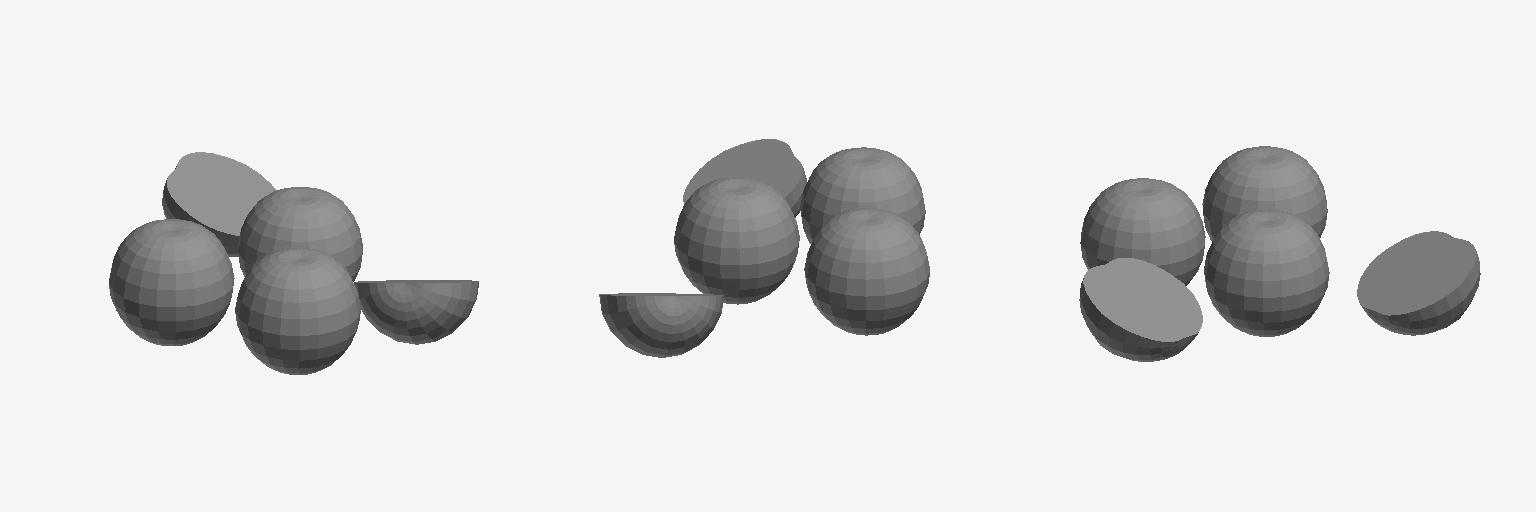
File: all_watermelon.obj
The picture shows the model from 3 angles: view 1: azimuth 30°, elevation 25°; view 2: azimuth 150°, elevation 25°; view 3: azimuth 270°, elevation 25°; orthographic projection.
Parts seen in each view (by area): view 1: Model_044_Watermelon_01, Model_044_Watermelon_04, Model_044_Watermelon_00, Model_044_Watermelon_03, Model_044_Watermelon_02; view 2: Model_044_Watermelon_01, Model_044_Watermelon_00, Model_044_Watermelon_04, Model_044_Watermelon_03, Model_044_Watermelon_02; view 3: Model_044_Watermelon_00, Model_044_Watermelon_03, Model_044_Watermelon_02, Model_044_Watermelon_04, Model_044_Watermelon_01.
Boxes of the visible parts, x1=… form: Model_044_Watermelon_01: x1=109, y1=219, x2=234, y2=345; Model_044_Watermelon_04: x1=235, y1=248, x2=360, y2=374; Model_044_Watermelon_00: x1=238, y1=187, x2=362, y2=281; Model_044_Watermelon_03: x1=162, y1=152, x2=276, y2=256; Model_044_Watermelon_02: x1=354, y1=280, x2=478, y2=344; Model_044_Watermelon_01: x1=804, y1=208, x2=929, y2=335; Model_044_Watermelon_00: x1=674, y1=177, x2=799, y2=304; Model_044_Watermelon_04: x1=800, y1=147, x2=925, y2=243; Model_044_Watermelon_03: x1=599, y1=293, x2=723, y2=357; Model_044_Watermelon_02: x1=683, y1=139, x2=806, y2=217; Model_044_Watermelon_00: x1=1204, y1=209, x2=1329, y2=336; Model_044_Watermelon_03: x1=1357, y1=231, x2=1480, y2=335; Model_044_Watermelon_02: x1=1079, y1=258, x2=1202, y2=361; Model_044_Watermelon_04: x1=1080, y1=178, x2=1205, y2=285; Model_044_Watermelon_01: x1=1202, y1=146, x2=1327, y2=240.
Size of the model in its own units: 6.8 by 2.43 by 8.08.